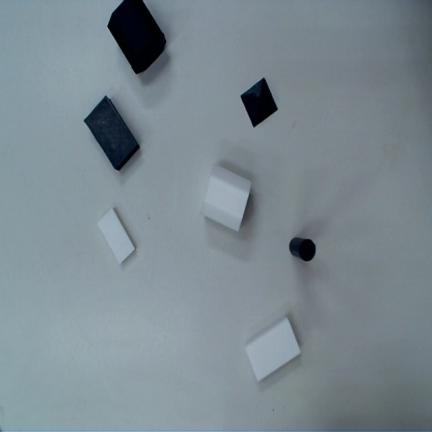Cilindro: (289, 238, 315, 261)
Paralelepipedo: (84, 95, 141, 171), (246, 317, 300, 381), (98, 209, 134, 263)
Piramide: (241, 77, 278, 128)
Prisma_hexagonal: (107, 0, 167, 74), (202, 165, 252, 233)
